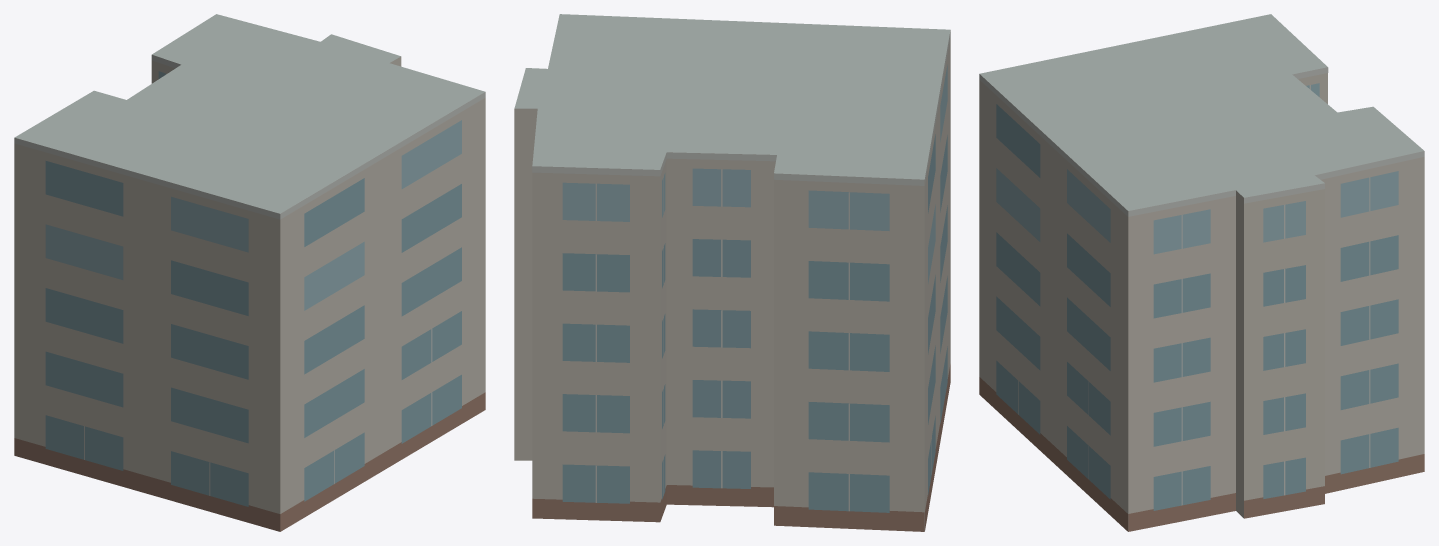
File: survey-upis-32961230.glb
The picture shows the model from 3 angles, left to right: view 1: azimuth 30°, elevation 25°; view 2: azimuth 150°, elevation 25°; view 3: azimuth 270°, elevation 25°; orthographic projection. The views are drawn at different scales.
Visible parts, largest first — view 1: survey-upis-32961230.tmp; view 2: survey-upis-32961230.tmp; view 3: survey-upis-32961230.tmp.
Boxes of the visible parts, left/top/right/bottom form: survey-upis-32961230.tmp: left=14, top=14, right=485, bottom=531; survey-upis-32961230.tmp: left=514, top=14, right=950, bottom=531; survey-upis-32961230.tmp: left=979, top=14, right=1424, bottom=531.
Size of the model in its own units: 17.8 by 13.5 by 16.99.
